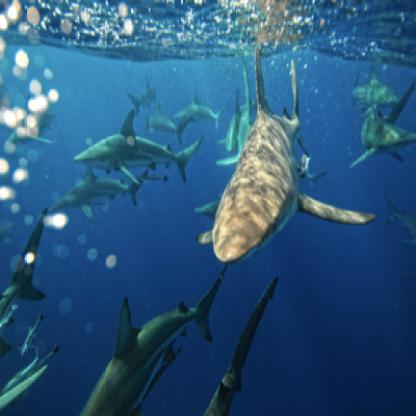shark: (195, 47, 379, 263), (80, 269, 227, 416), (70, 107, 203, 181), (50, 157, 150, 220), (351, 92, 416, 170), (352, 64, 401, 115)
